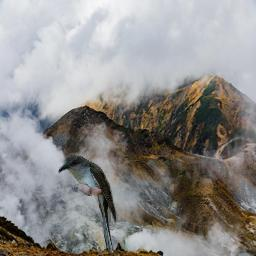Cuckoo: (58, 155, 118, 253)
